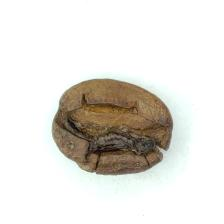NG: (67, 94, 164, 166)
